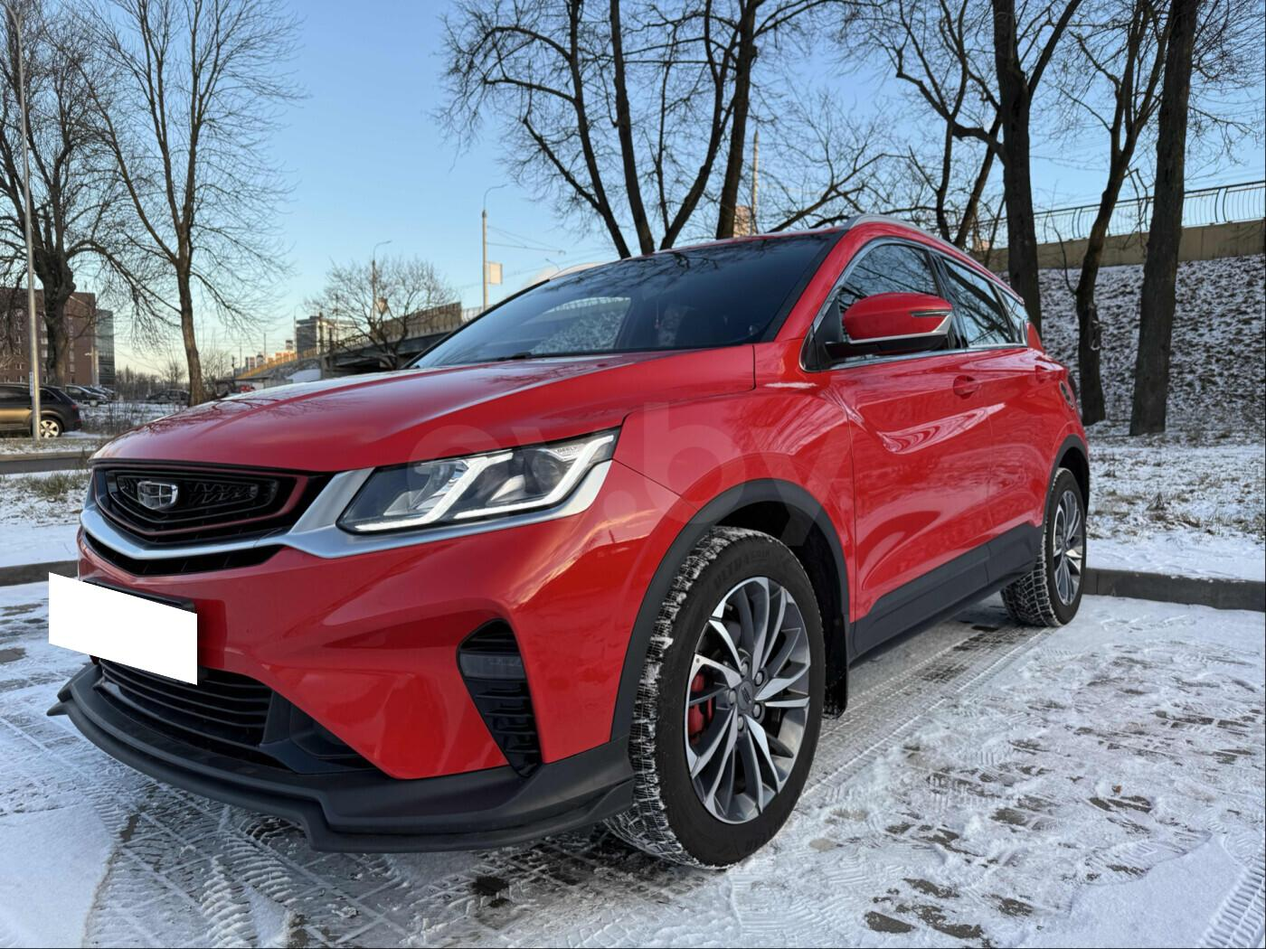Coolray_2019-2023: (44, 209, 1101, 872)
